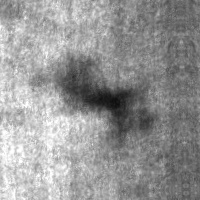patches: (63, 65, 135, 122)
